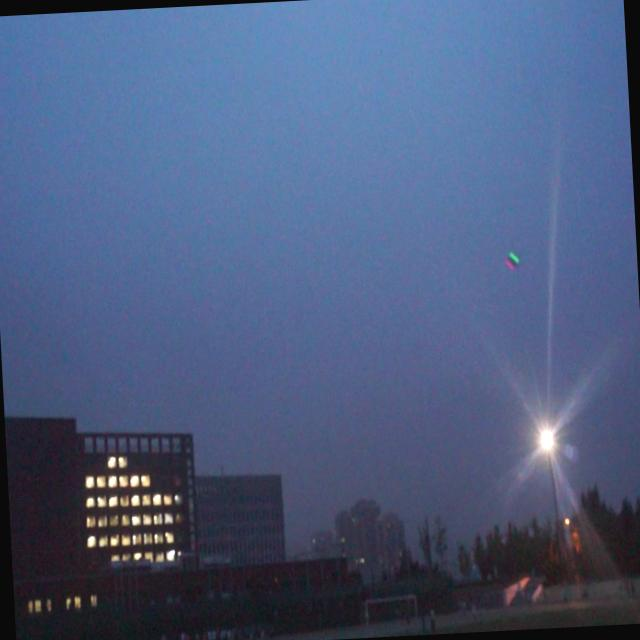drone: (502, 246, 524, 275)
